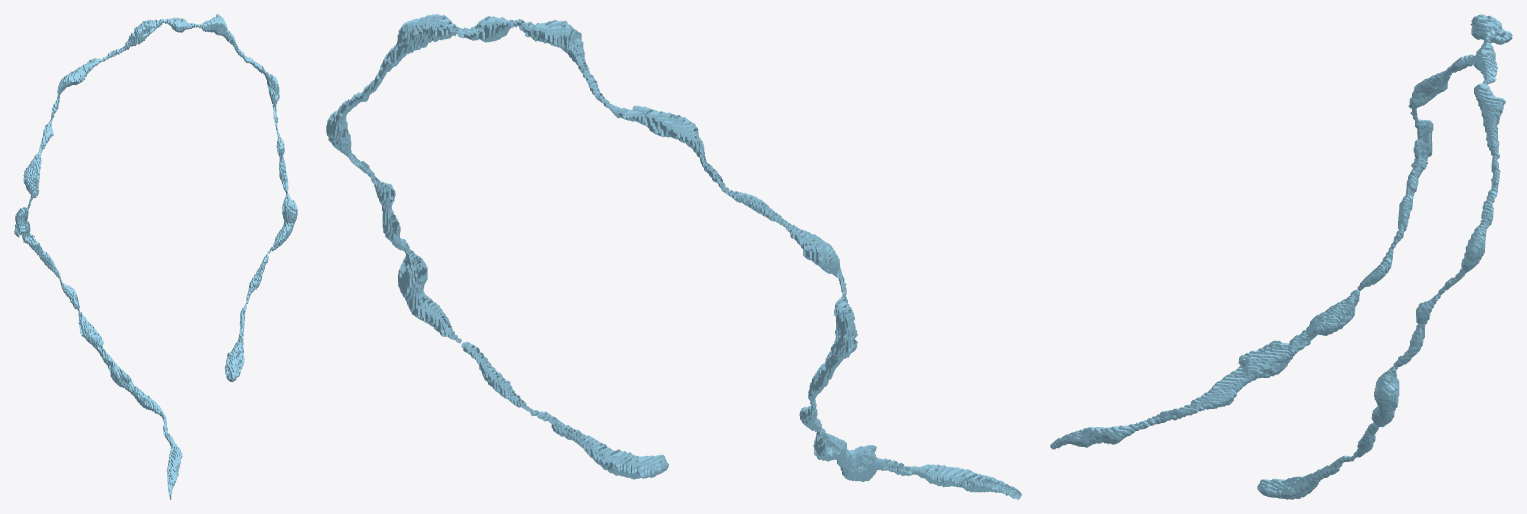
Rendered from SVV_AWCL.gltf.
3 renders of one model, left to right at view 1: azimuth 30°, elevation 25°; view 2: azimuth 150°, elevation 25°; view 3: azimuth 270°, elevation 25°, orthographic. The views are drawn at different scales.
Visible parts, largest first — view 1: AWCL; view 2: AWCL; view 3: AWCL.
Boxes of the visible parts, box(x1,y1,x2,y2) form: AWCL: box(14, 14, 297, 499); AWCL: box(326, 14, 1021, 499); AWCL: box(1050, 14, 1512, 499).
Size of the model in its own units: 140491 by 164900 by 133563.
